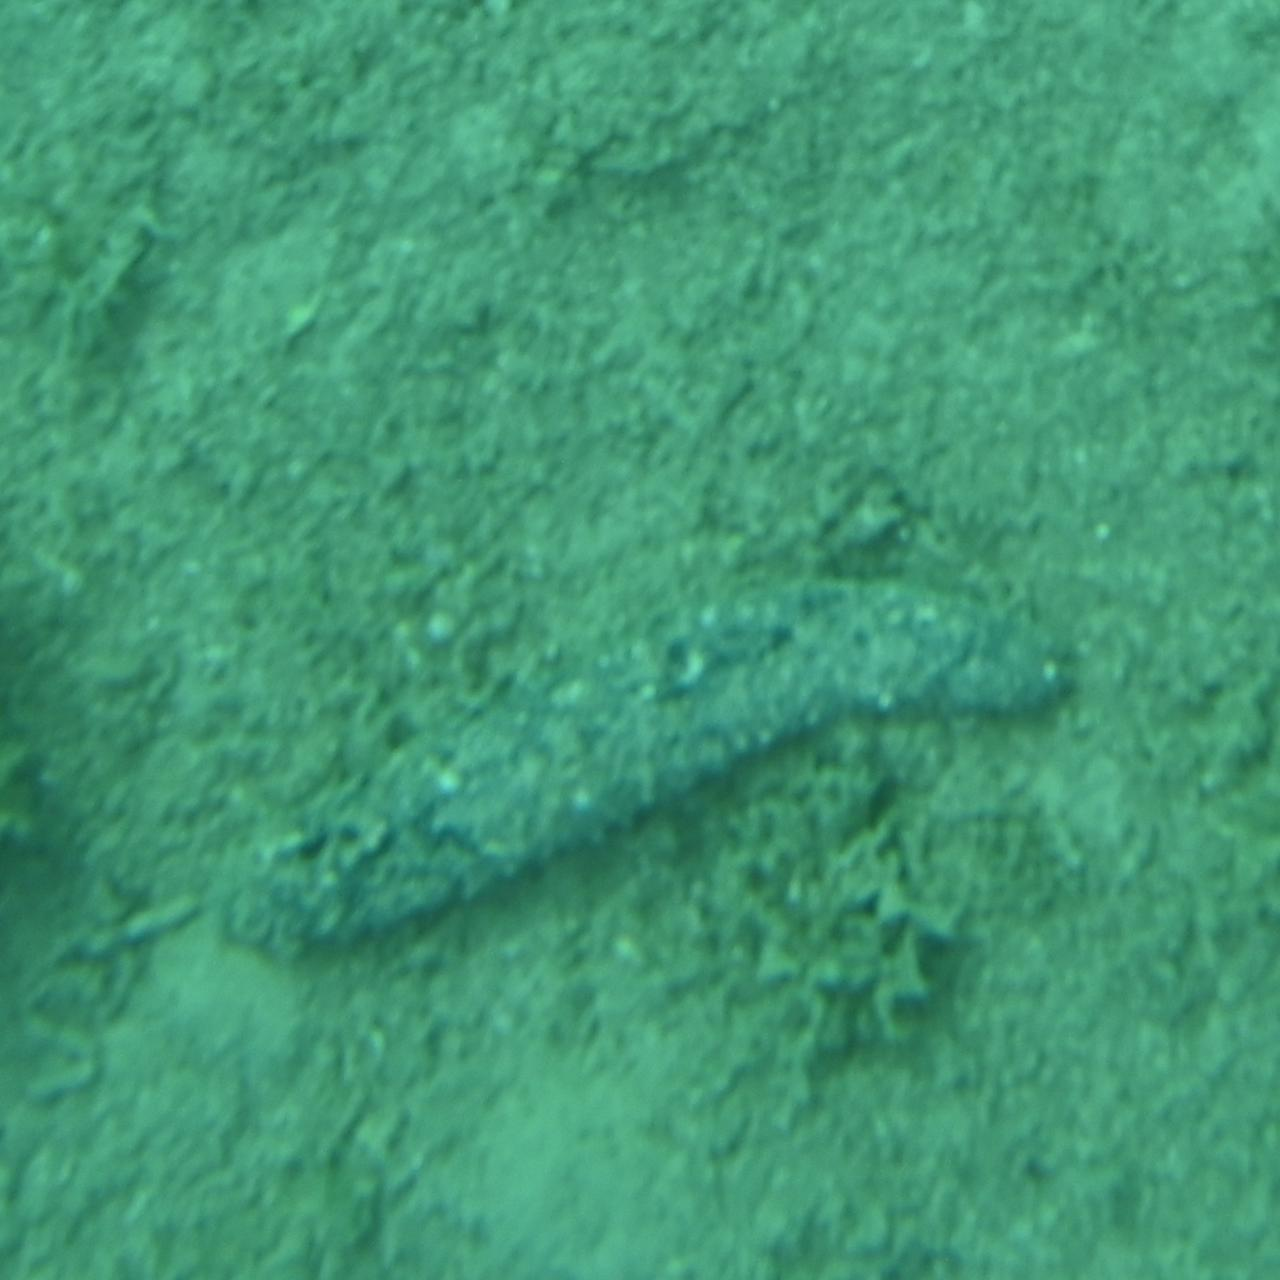Holothuria tubulosa: (211, 571, 1069, 964)
